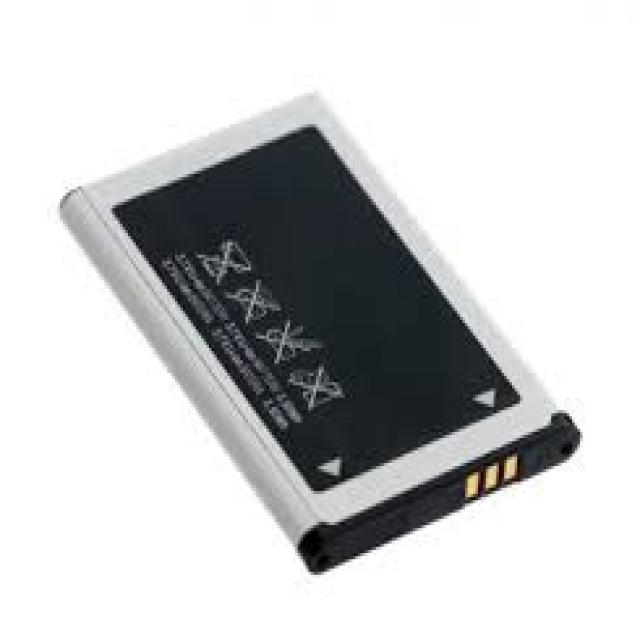non-organic waste: (66, 90, 578, 578)
